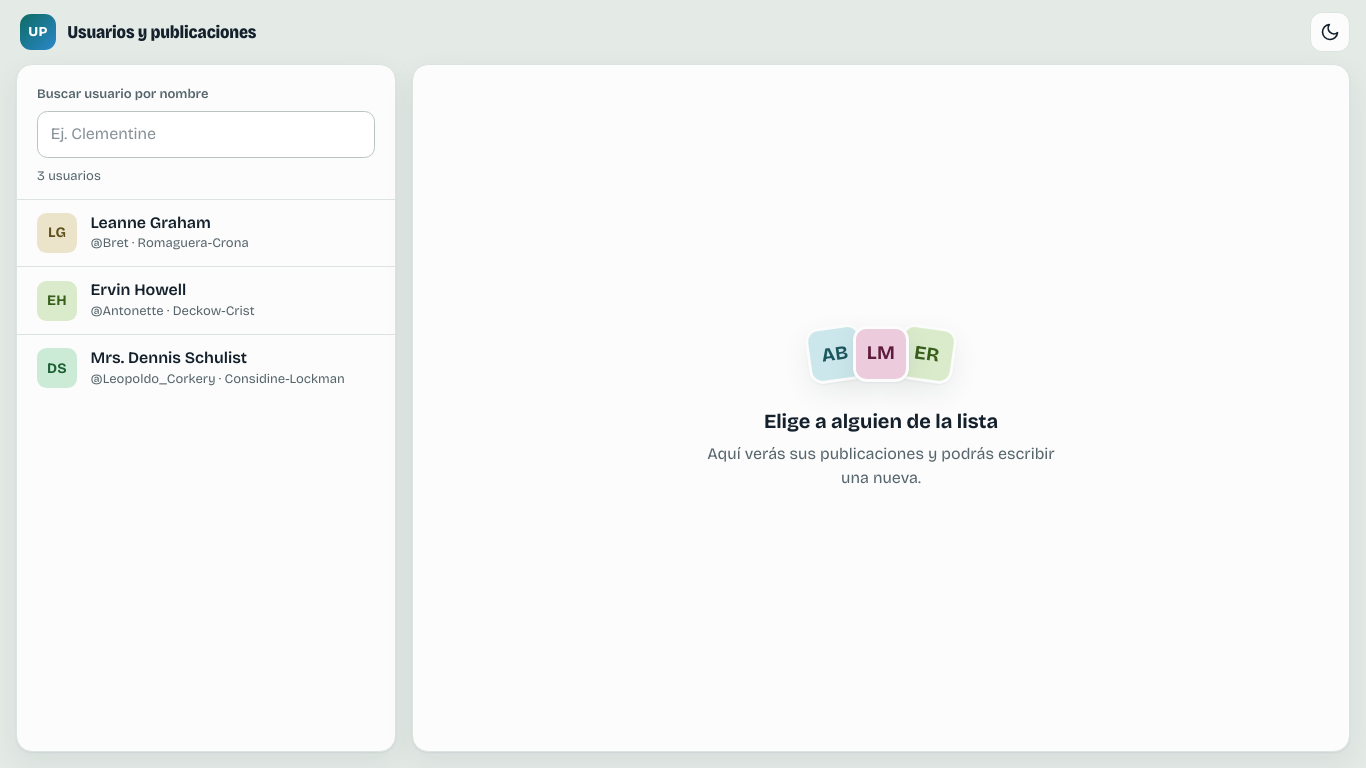
Scenario: App › ignora la respuesta lenta del usuario anterior al cambiar de usuario
Click the button "LG Leanne Graham @Bret · Romaguera-Crona": point(206, 233) left=17, top=200, right=395, bottom=266
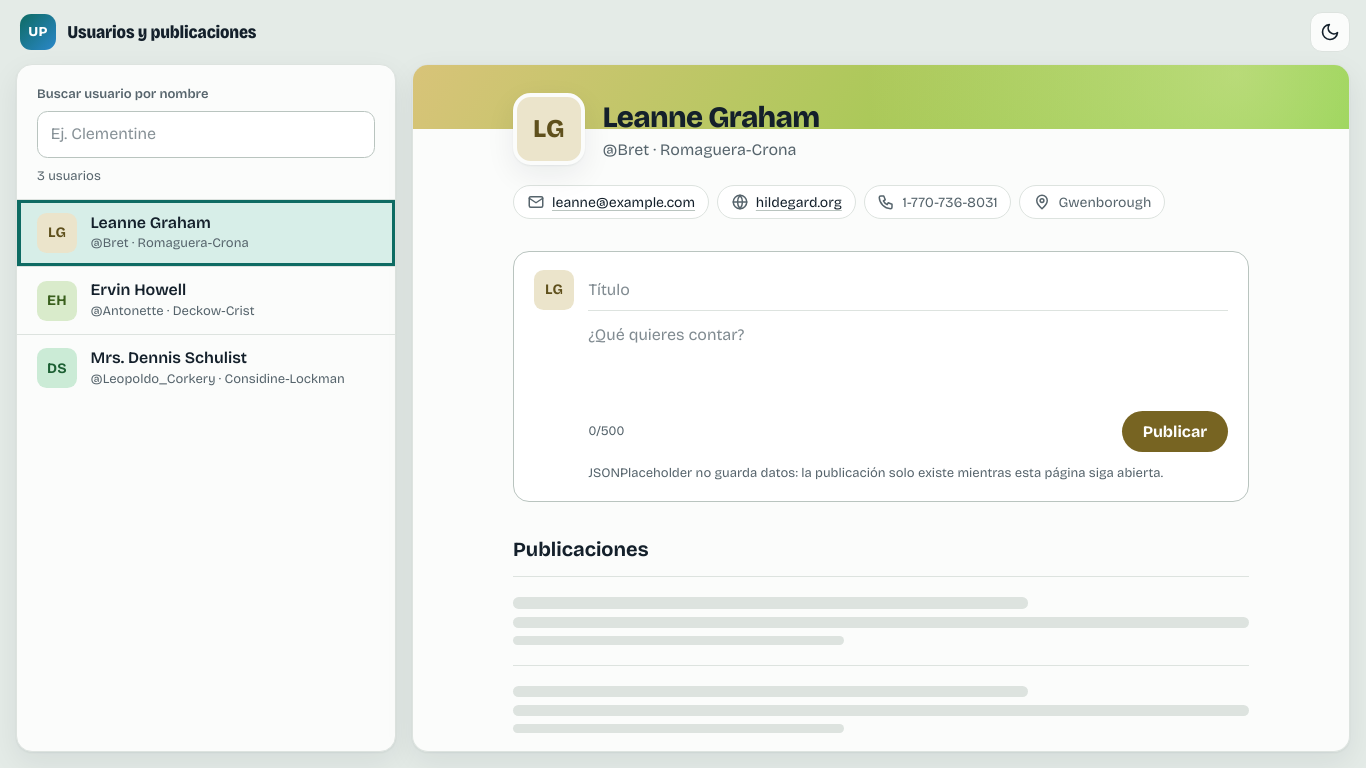
Click the button "EH Ervin Howell @Antonette · Deckow-Crist": point(206, 300) left=17, top=266, right=395, bottom=334
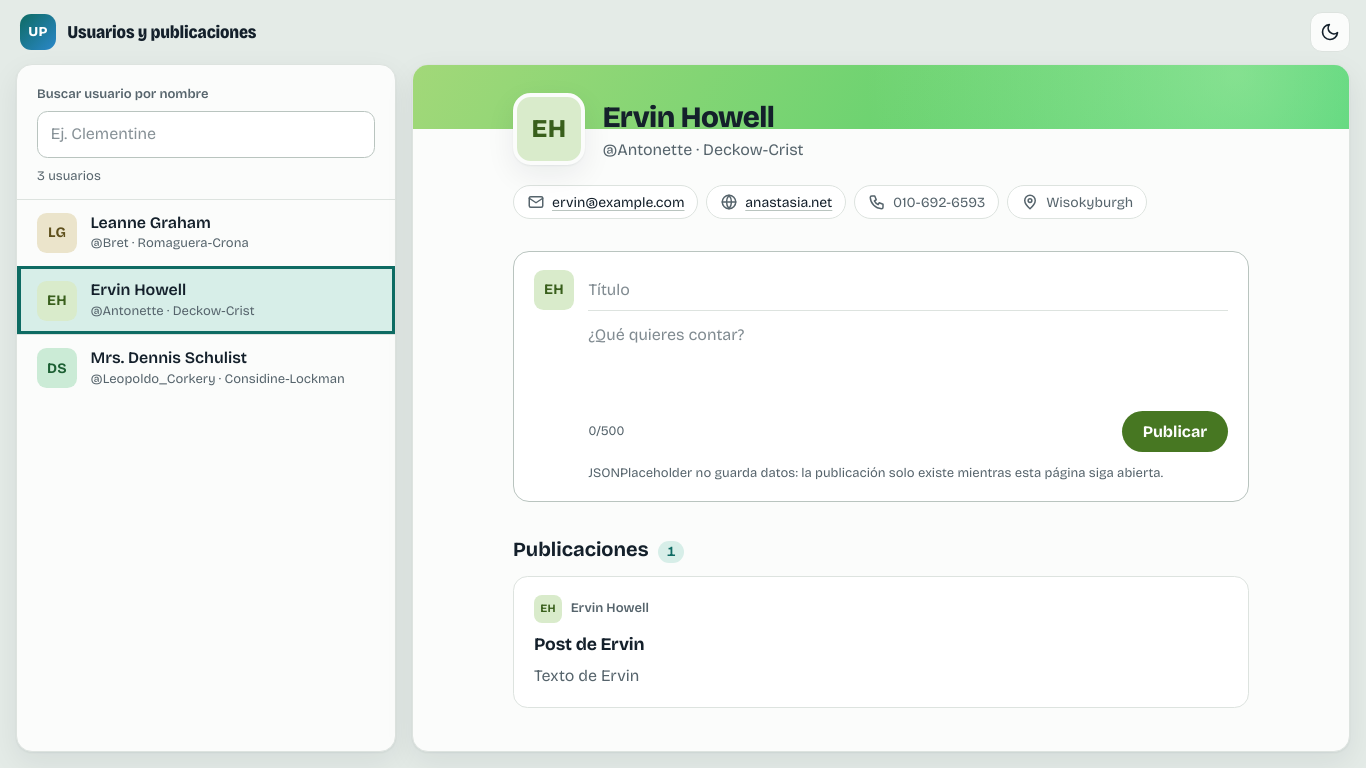
Result: the heading "post de Ervin" is shown at left=534, top=634, right=644, bottom=655
